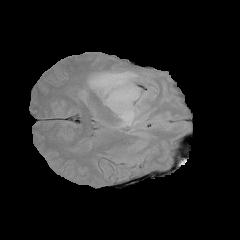glioma: (82, 70, 150, 127)
